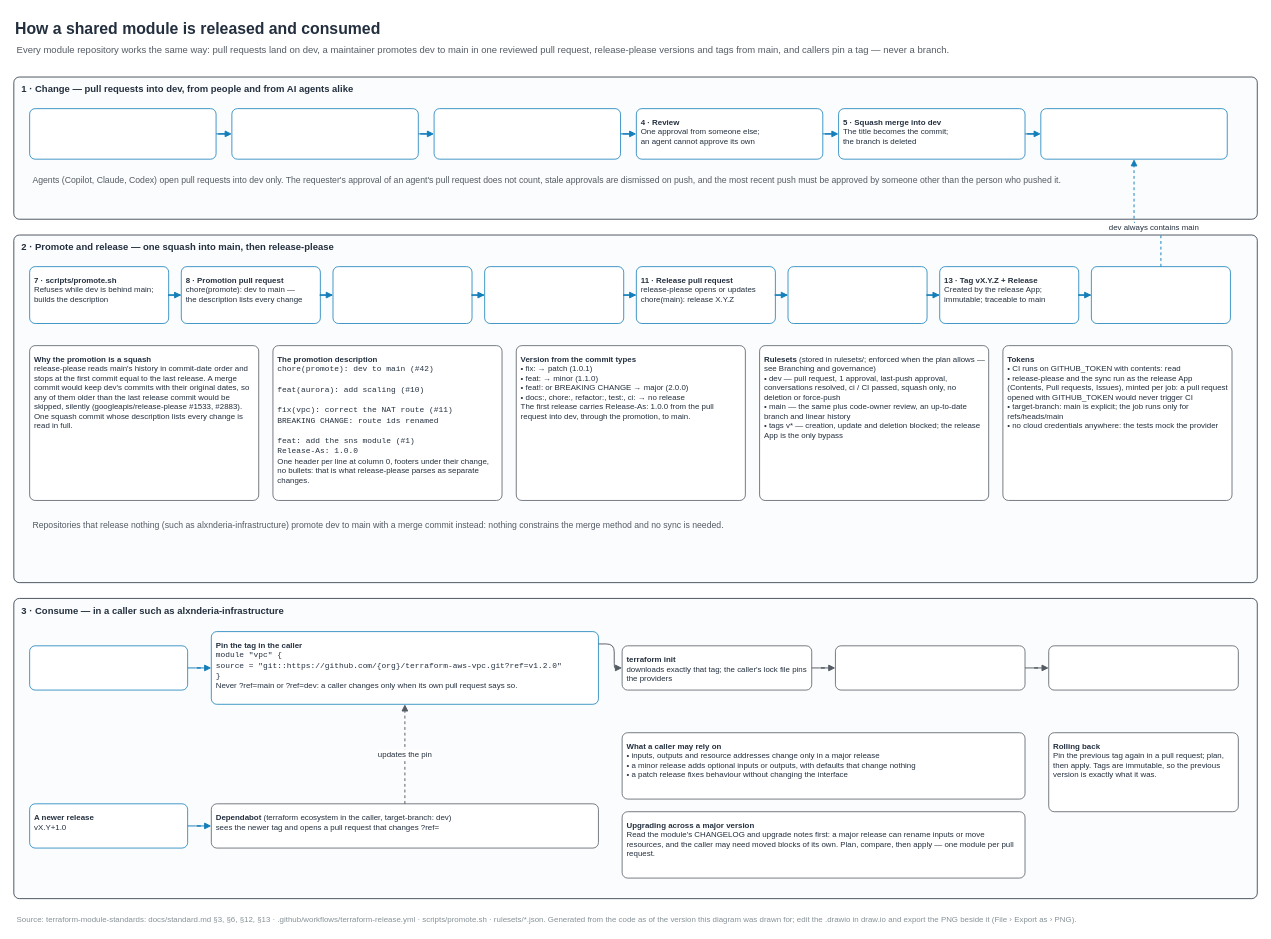
This 1271x939 diagram has some shape labels left out. The shapes that lost their labels are listed below. From the top down, each one's centre as x and y in pixels, then its label:
[122,133]: 1 · Branch from dev feat/… fix/… docs/… chore/… hours or days, then deleted
[324,133]: 2 · Pull request into dev Title is a Conventional Commit: fix: · feat: · feat!:
[527,133]: 3 · CI ci / CI passed — the only required status check
[1133,133]: 6 · dev accumulates Integration: CI on every push; nothing here is released yet
[402,295]: 9 · CI + human approval ci / CI passed, branch up to date; one approval HITL
[554,295]: 10 · Squash merge into main One commit; its body is what release-please reads
[857,295]: 12 · Merge the release PR A human decides when to release HITL
[1160,295]: 14 · Sync dev with main The release workflow merges main back into dev
[108,667]: Release vX.Y.Z a tag in terraform-aws-{module}
[930,667]: terraform plan in the caller's pull request, reviewed like any other change
[1143,667]: terraform apply from the reviewed plan, from the caller's main
